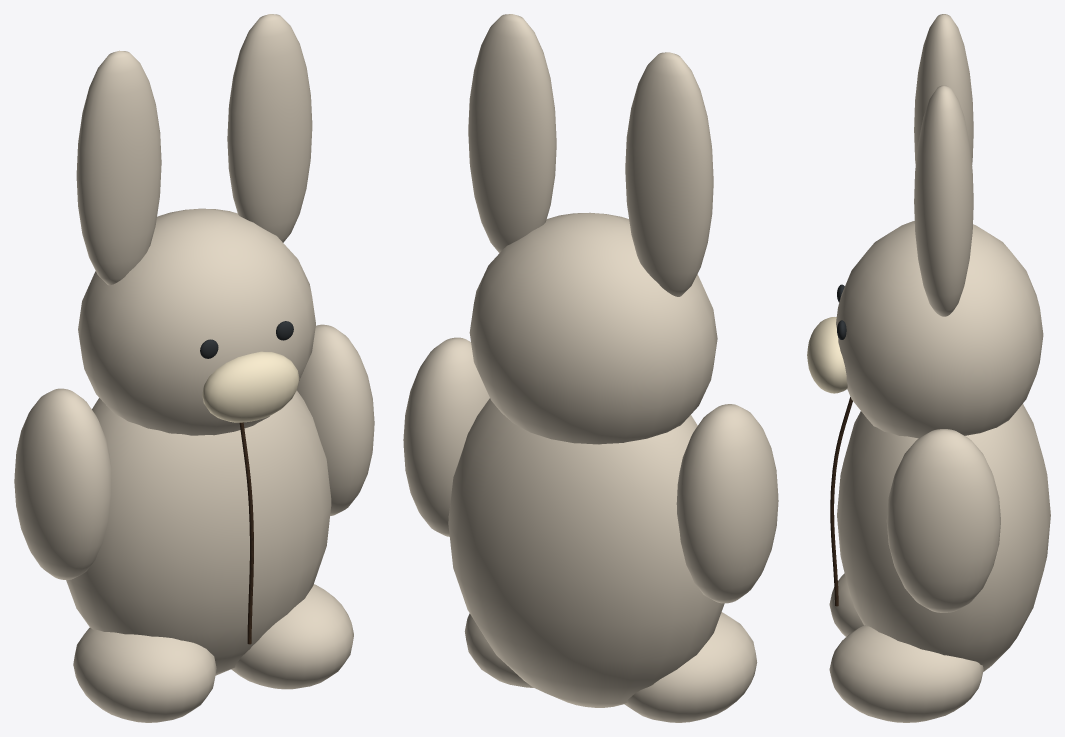
The model's file is sku_v24_plush_rabbit.glb.
3 renders of one model, left to right at view 1: azimuth 30°, elevation 25°; view 2: azimuth 150°, elevation 25°; view 3: azimuth 270°, elevation 25°, orthographic. The views are drawn at different scales.
Parts seen in each view (by area): view 1: sku_v24_plush_rabbit_Toy_linen, sku_v24_plush_rabbit_V24_cream, sku_v24_plush_rabbit_CC0_Smoked_walnut, sku_v24_plush_rabbit_V24_satin_black; view 2: sku_v24_plush_rabbit_Toy_linen; view 3: sku_v24_plush_rabbit_Toy_linen, sku_v24_plush_rabbit_V24_cream, sku_v24_plush_rabbit_CC0_Smoked_walnut.
Part boxes in pixels (bbox=[...]): sku_v24_plush_rabbit_Toy_linen: bbox=[14, 14, 374, 722]; sku_v24_plush_rabbit_V24_cream: bbox=[202, 351, 299, 422]; sku_v24_plush_rabbit_CC0_Smoked_walnut: bbox=[239, 422, 253, 644]; sku_v24_plush_rabbit_V24_satin_black: bbox=[200, 321, 293, 358]; sku_v24_plush_rabbit_Toy_linen: bbox=[403, 14, 778, 722]; sku_v24_plush_rabbit_Toy_linen: bbox=[829, 14, 1050, 722]; sku_v24_plush_rabbit_V24_cream: bbox=[807, 317, 847, 393]; sku_v24_plush_rabbit_CC0_Smoked_walnut: bbox=[830, 397, 852, 606].
Size of the model in its own units: 0.154 by 0.28 by 0.098.
4 materials, 1 textured.
